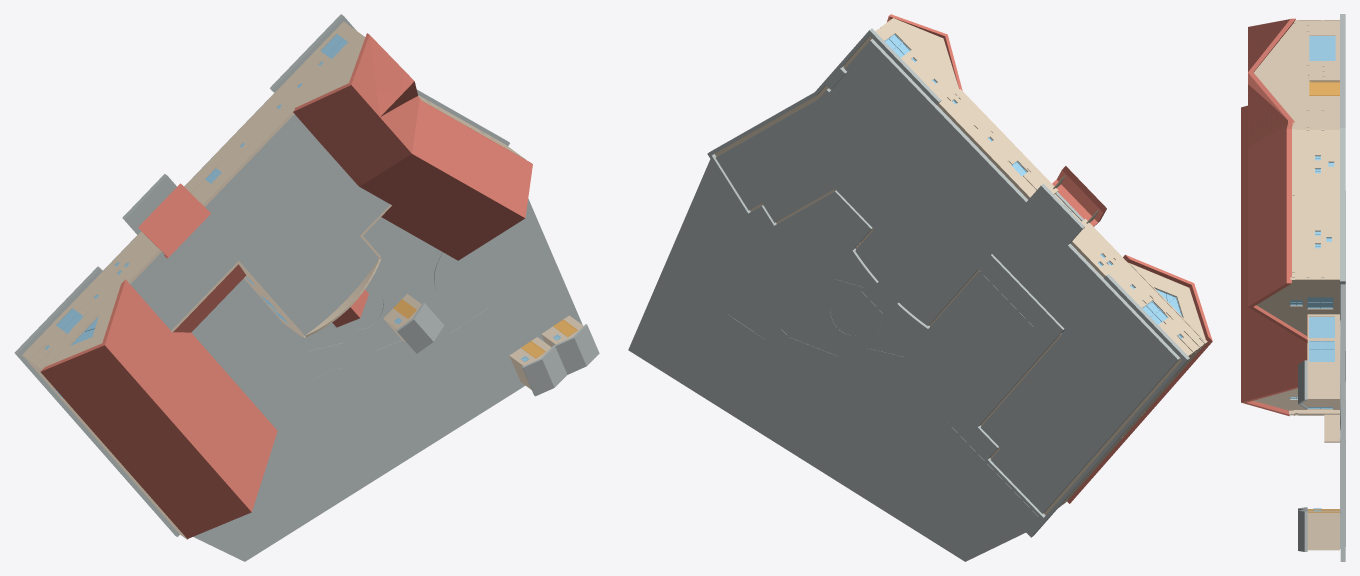
The model's file is model_ifc.glb.
3 views of the same model, side by side, from view 1: azimuth 30°, elevation 25°; view 2: azimuth 150°, elevation 25°; view 3: azimuth 270°, elevation 25° (orthographic). The views are drawn at different scales.
Parts seen in each view (by area): view 1: e177, e185, e166, e189, e178, e167, e170, e190, e171, e115, e12, e169 (+12 smaller); view 2: e173, e185, e178, e174, e176, e12, e115, e13, e151, e1, e169, e150 (+2 smaller); view 3: e166, e124, e170, e103, e131, e178, e176, e153, e161, e11, e134, e14 (+21 smaller).
Boxes of the visible parts, x1,y1,x2,y2 form: e177: [130, 114, 389, 335]; e185: [191, 271, 520, 554]; e166: [293, 34, 532, 260]; e189: [221, 368, 410, 542]; e178: [193, 199, 582, 561]; e167: [40, 343, 251, 538]; e170: [151, 332, 277, 511]; e190: [434, 220, 529, 304]; e171: [102, 279, 172, 397]; e115: [23, 231, 161, 368]; e12: [184, 93, 294, 206]; e169: [138, 183, 210, 258]; e173: [716, 39, 1179, 513]; e185: [696, 271, 1038, 554]; e178: [628, 159, 1036, 561]; e174: [949, 254, 1189, 537]; e176: [707, 28, 941, 255]; e12: [937, 89, 1058, 199]; e115: [1070, 218, 1204, 355]; e13: [875, 20, 957, 104]; e151: [1128, 262, 1205, 340]; e1: [1044, 339, 1207, 515]; e169: [1052, 166, 1106, 226]; e150: [891, 18, 958, 89]; e166: [1248, 19, 1307, 343]; e124: [1292, 129, 1339, 277]; e170: [1241, 199, 1307, 402]; e103: [1292, 23, 1339, 109]; e131: [1253, 25, 1291, 109]; e178: [1340, 284, 1345, 561]; e176: [1340, 14, 1345, 320]; e153: [1307, 513, 1339, 550]; e161: [1307, 362, 1339, 399]; e11: [1256, 277, 1339, 333]; e134: [1285, 280, 1339, 335]; e14: [1292, 110, 1339, 129].
Size of the model in its own units: 49.45 by 42.95 by 7.27.
